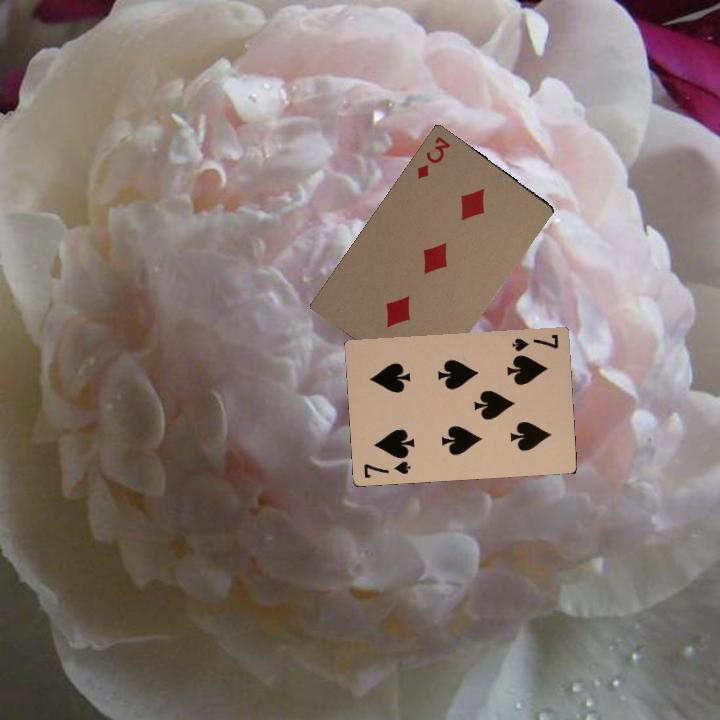3d: (413, 132, 453, 182)
7s: (508, 330, 561, 354), (360, 457, 413, 480)
